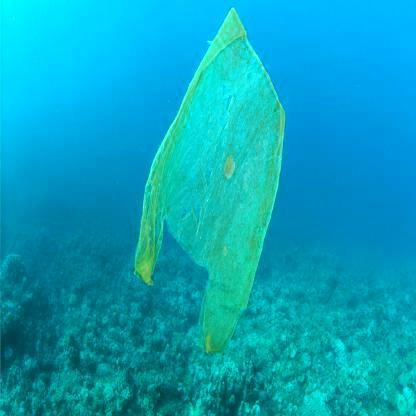Trash: (131, 0, 286, 354)
